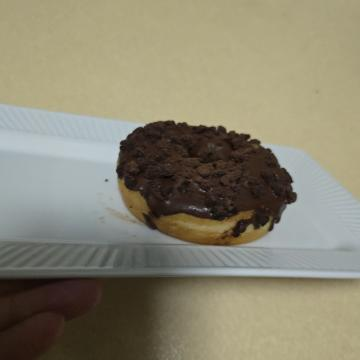doughnut: (110, 52, 256, 261)
